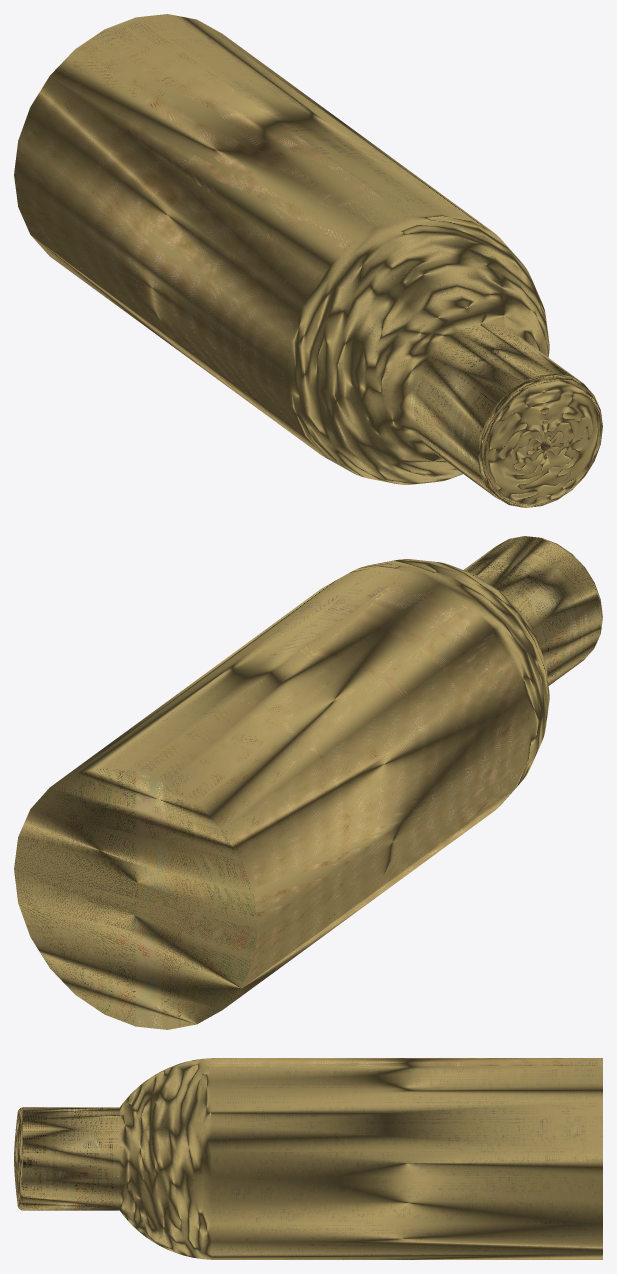
The model's file is model_align.obj.
3 renders of one model, top to bottom at view 1: azimuth 30°, elevation 25°; view 2: azimuth 150°, elevation 25°; view 3: azimuth 270°, elevation 25°, orthographic. The views are drawn at different scales.
Size of the model in its own units: 0.0919 by 0.0919 by 0.2673.
